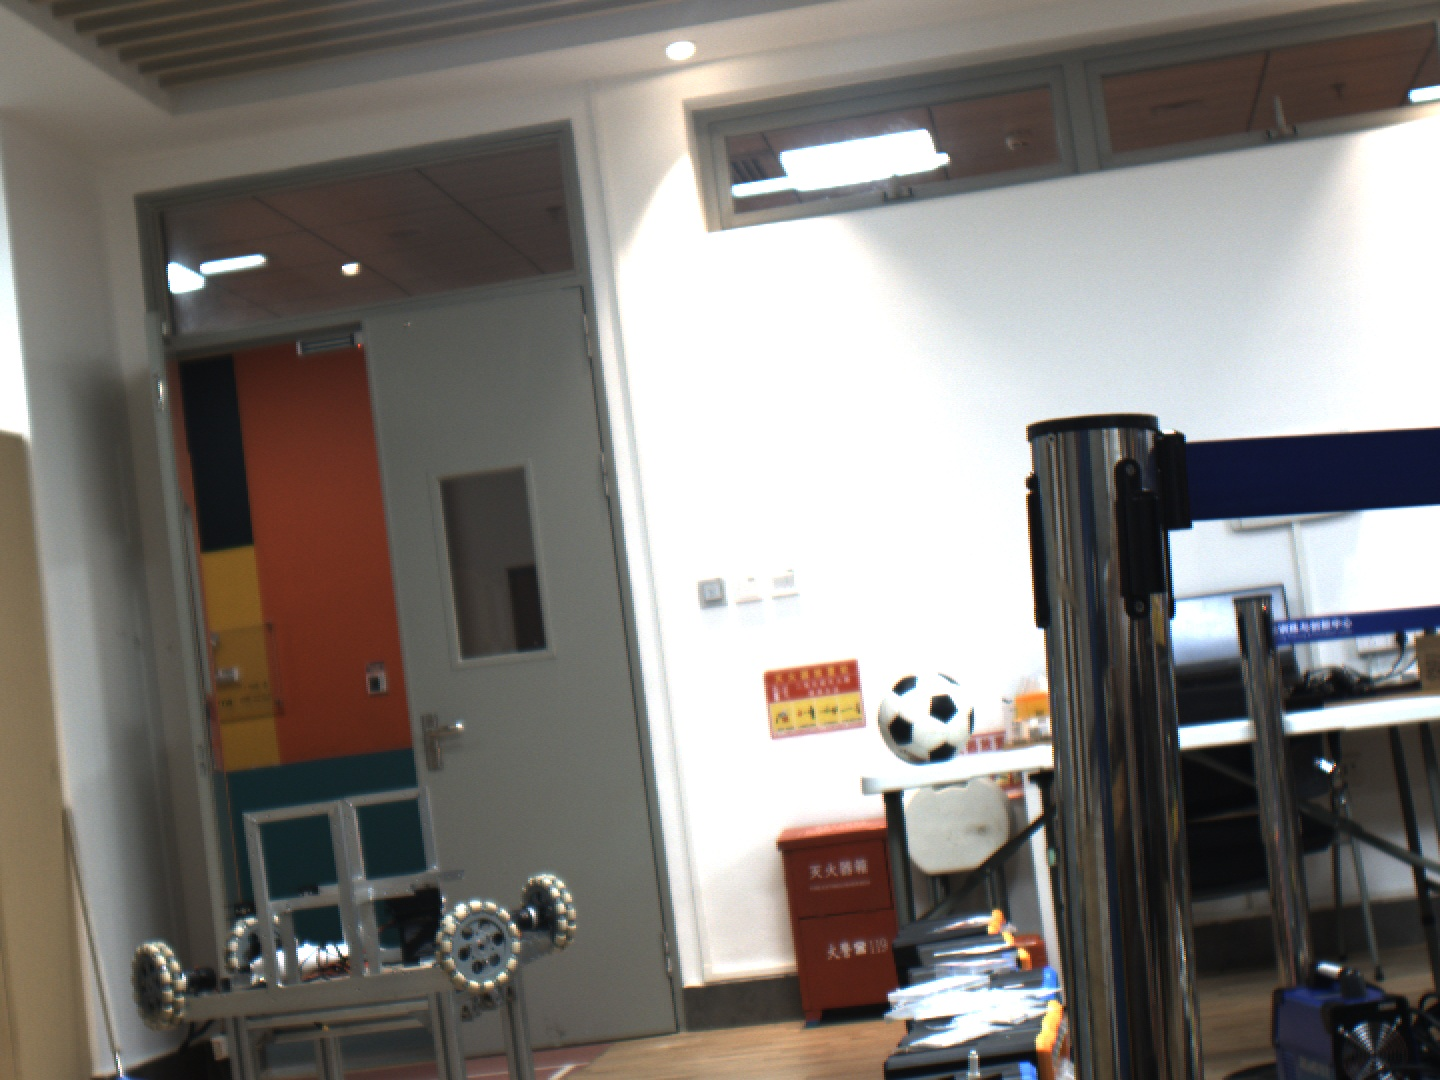ball: (872, 664, 991, 773)
